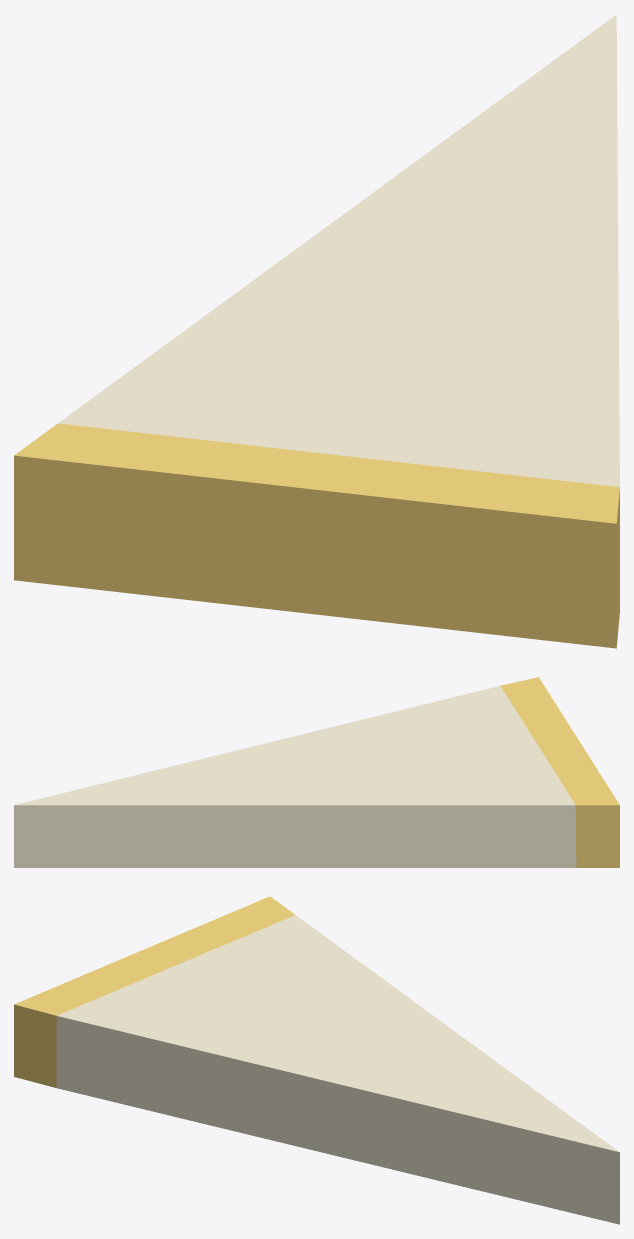
Rendered from Cheese.fbx.
The picture shows the model from 3 angles, top to bottom: view 1: azimuth 30°, elevation 25°; view 2: azimuth 150°, elevation 25°; view 3: azimuth 270°, elevation 25°; orthographic projection. The views are drawn at different scales.
Visible parts, largest first — view 1: kp_cheese_slice_small; view 2: kp_cheese_slice_small; view 3: kp_cheese_slice_small.
Boxes of the visible parts, x1,y1,x2,y2 form: kp_cheese_slice_small: [14, 14, 619, 648]; kp_cheese_slice_small: [14, 677, 619, 867]; kp_cheese_slice_small: [14, 896, 619, 1224].
Bounding box in the file's own units: 8.66 × 1.14 × 8.66.
